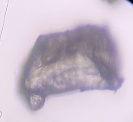microplastic: (18, 24, 124, 112), (100, 1, 123, 5)
